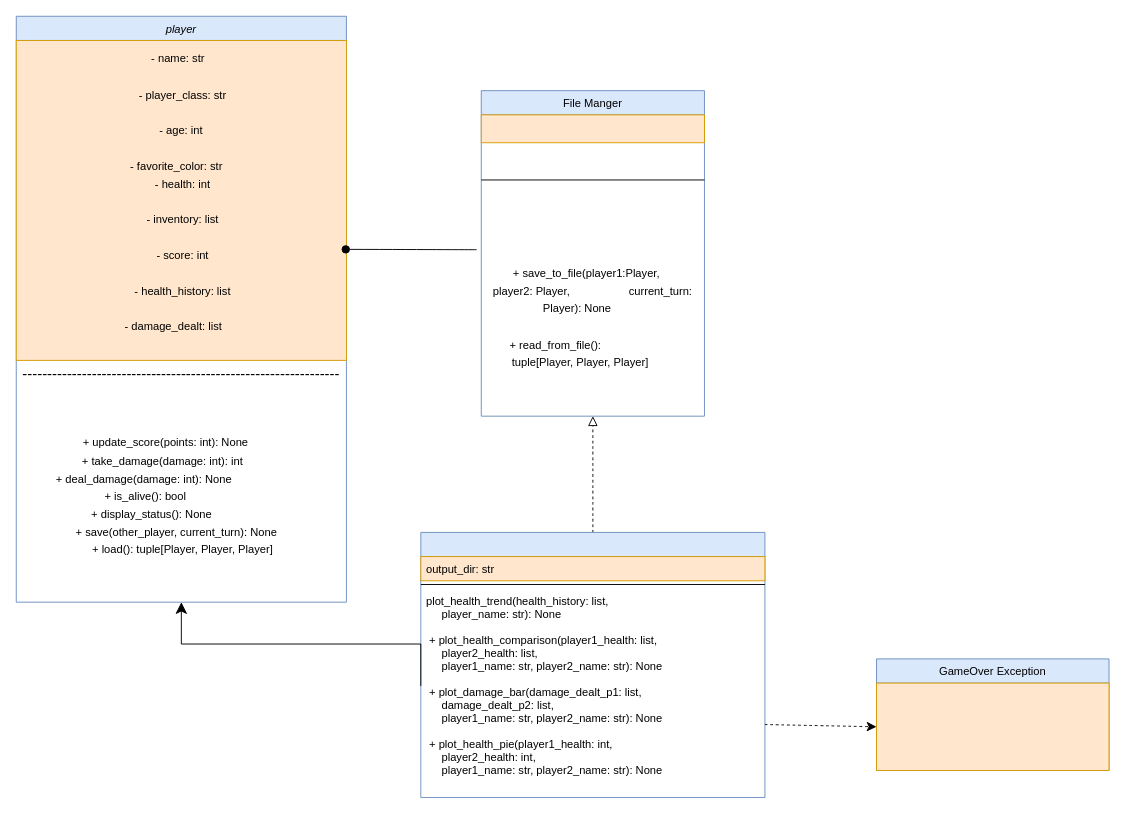
The diagram is 1125 pixels wide and 823 high, and some of its shapes have lost their labels. Each missing label, with the box of its shape:
Custom exception to cleanly exit game flow: (876, 682, 1109, 771)
filename:str: (480, 114, 704, 143)
Plot Manager: (420, 531, 765, 797)
